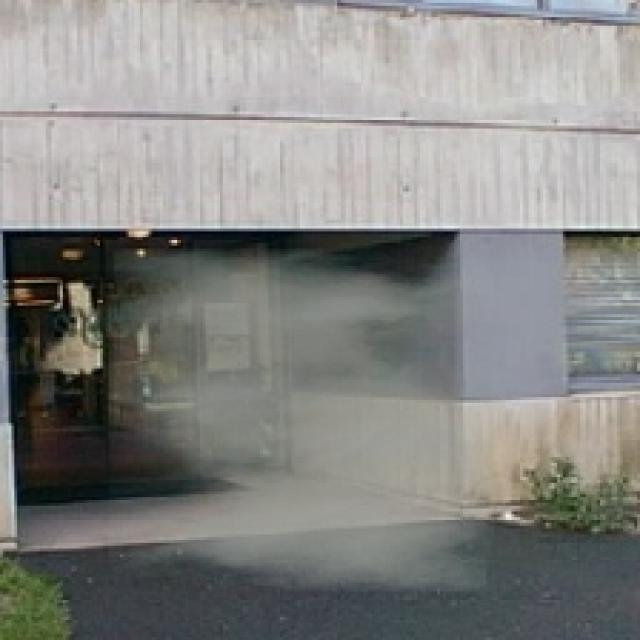Smoke: (108, 248, 494, 592)
